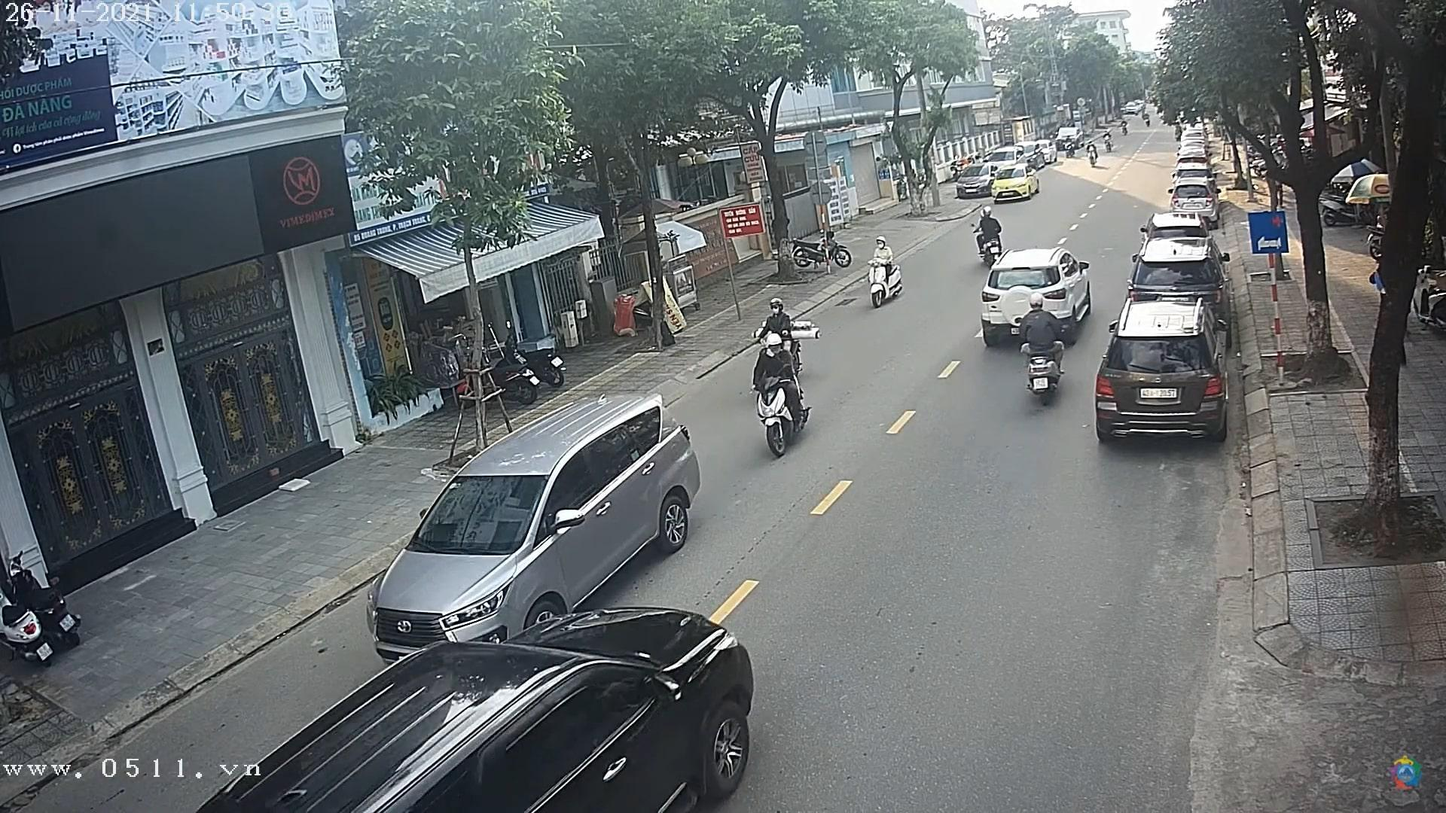car: (364, 396, 701, 648), (1097, 317, 1227, 442), (979, 250, 1096, 335), (1130, 239, 1229, 303), (993, 164, 1041, 203), (1171, 165, 1217, 187)
motorbike: (758, 375, 813, 458), (1019, 337, 1075, 410), (871, 258, 909, 306)
